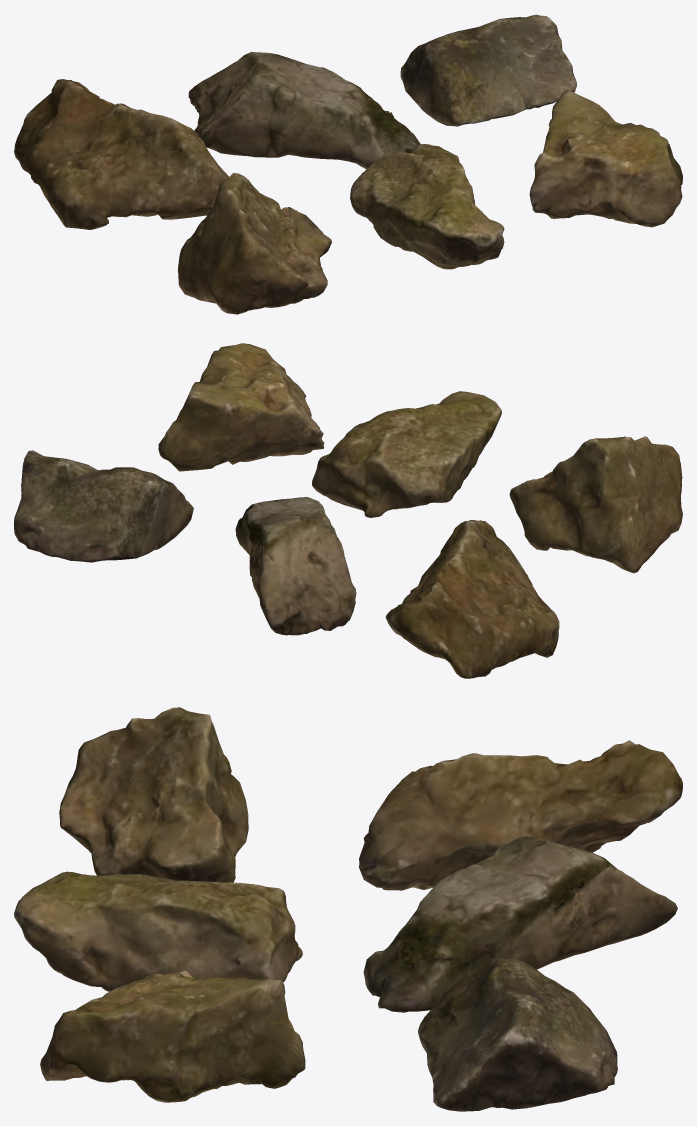
Rendered from PH-rock_moss_set_01.glb.
3 renders of one model, top to bottom at view 1: azimuth 30°, elevation 25°; view 2: azimuth 150°, elevation 25°; view 3: azimuth 270°, elevation 25°, orthographic. The views are drawn at different scales.
Parts seen in each view (by area): view 1: rock_moss_set_01_rock01, rock_moss_set_01_rock02, rock_moss_set_01_rock06, rock_moss_set_01_rock04, rock_moss_set_01_rock03, rock_moss_set_01_rock05; view 2: rock_moss_set_01_rock04, rock_moss_set_01_rock01, rock_moss_set_01_rock05, rock_moss_set_01_rock03, rock_moss_set_01_rock06, rock_moss_set_01_rock02; view 3: rock_moss_set_01_rock01, rock_moss_set_01_rock02, rock_moss_set_01_rock05, rock_moss_set_01_rock04, rock_moss_set_01_rock06, rock_moss_set_01_rock03.
Part boxes in pixels (bbox=[...]): rock_moss_set_01_rock01: bbox=[14, 79, 228, 229]; rock_moss_set_01_rock02: bbox=[188, 51, 420, 169]; rock_moss_set_01_rock06: bbox=[529, 90, 682, 227]; rock_moss_set_01_rock04: bbox=[178, 172, 331, 314]; rock_moss_set_01_rock03: bbox=[400, 14, 576, 126]; rock_moss_set_01_rock05: bbox=[350, 144, 504, 269]; rock_moss_set_01_rock04: bbox=[509, 436, 682, 573]; rock_moss_set_01_rock01: bbox=[385, 520, 559, 678]; rock_moss_set_01_rock05: bbox=[312, 391, 501, 517]; rock_moss_set_01_rock03: bbox=[14, 450, 193, 562]; rock_moss_set_01_rock06: bbox=[158, 343, 324, 471]; rock_moss_set_01_rock02: bbox=[235, 497, 356, 635]; rock_moss_set_01_rock01: bbox=[359, 740, 682, 890]; rock_moss_set_01_rock02: bbox=[363, 836, 677, 1012]; rock_moss_set_01_rock05: bbox=[14, 871, 302, 991]; rock_moss_set_01_rock04: bbox=[59, 707, 248, 882]; rock_moss_set_01_rock06: bbox=[40, 970, 305, 1102]; rock_moss_set_01_rock03: bbox=[418, 956, 617, 1111].
Size of the model in its own units: 8 by 1.76 by 6.94.
1 material, 1 textured.
